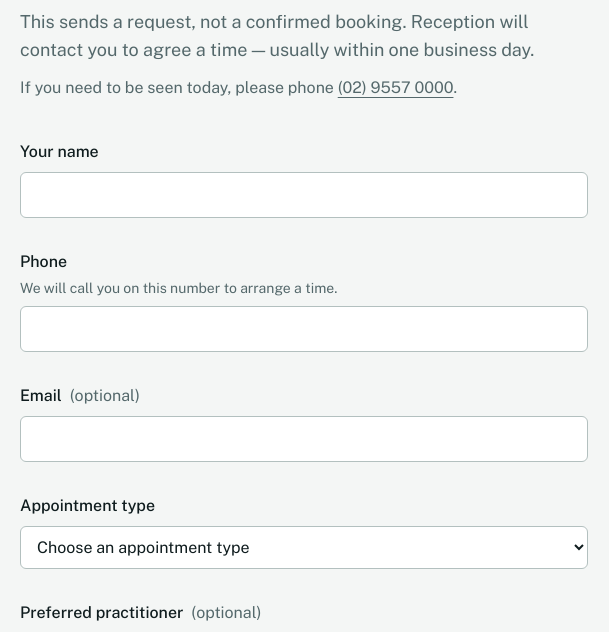
Book › blocks submission with neither phone nor email
Type "Jo Nguyen" into the field labelled "Your name". click: [304, 194]
box: [20, 172, 588, 218]
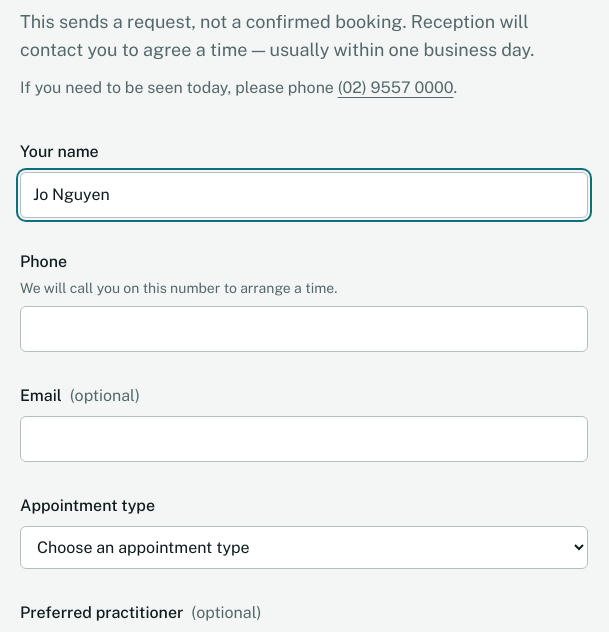
Select "Initial physiotherapy consultation — 45 min, $145" in the dropdown labelled "Appointment type". click: [304, 547]
box: [20, 526, 588, 568]
(page scrolled)
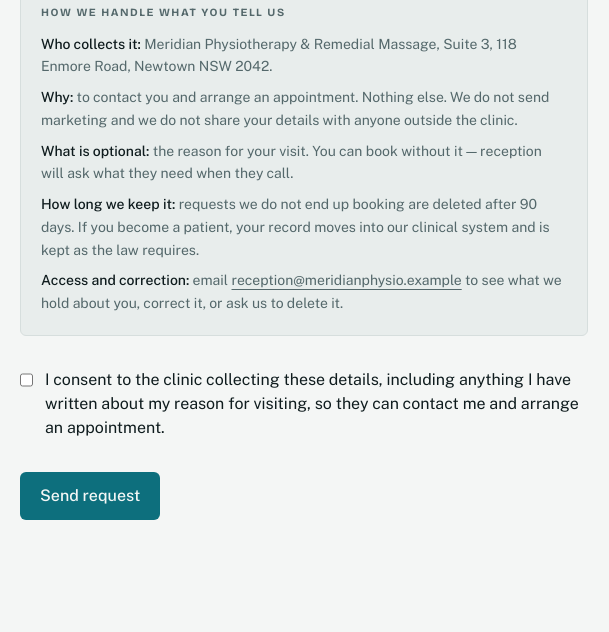
Click the checkbox labelled "I consent". click: [26, 380]
box: [20, 372, 33, 388]
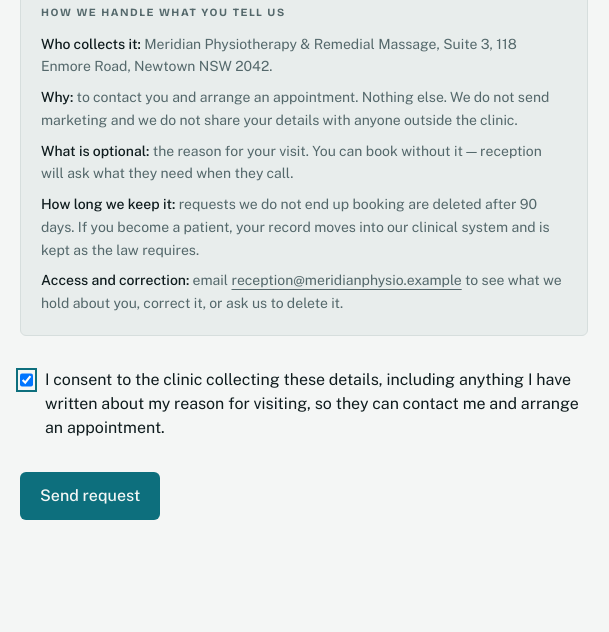
Click the button "Send request". click: [90, 496]
box: [20, 472, 160, 520]
(page scrolled)
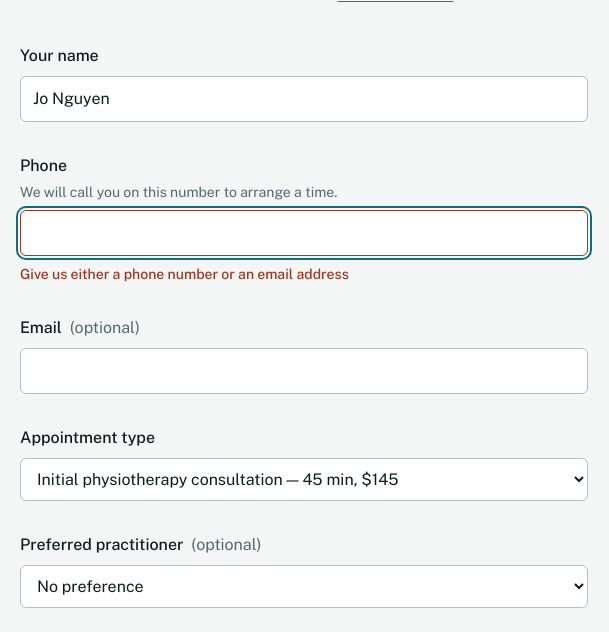
Check: the text "Give us either a phone number or an email address" is shown, box [20, 266, 349, 282]
